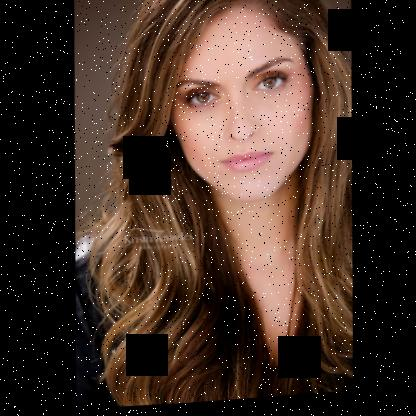Female: (168, 0, 317, 208)
